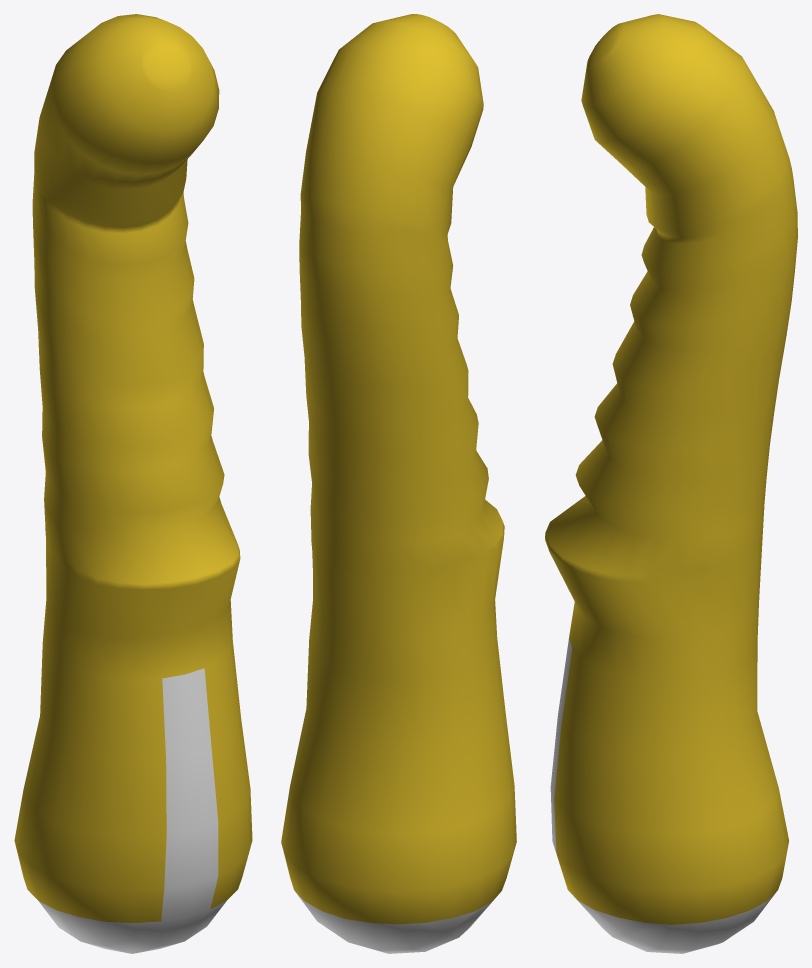
The model's file is toy4_LP.fbx.
3 views of the same model, side by side, from view 1: azimuth 30°, elevation 25°; view 2: azimuth 150°, elevation 25°; view 3: azimuth 270°, elevation 25° (orthographic).
Visible parts, largest first — view 1: 0552534 0000 v1.001 low; view 2: 0552534 0000 v1.001 low; view 3: 0552534 0000 v1.001 low.
Boxes of the visible parts, left/top/right/bottom form: 0552534 0000 v1.001 low: left=14, top=14, right=252, bottom=953; 0552534 0000 v1.001 low: left=281, top=14, right=516, bottom=953; 0552534 0000 v1.001 low: left=545, top=14, right=797, bottom=953.
Bounding box in the file's own units: 14.91 × 64.05 × 15.91.
